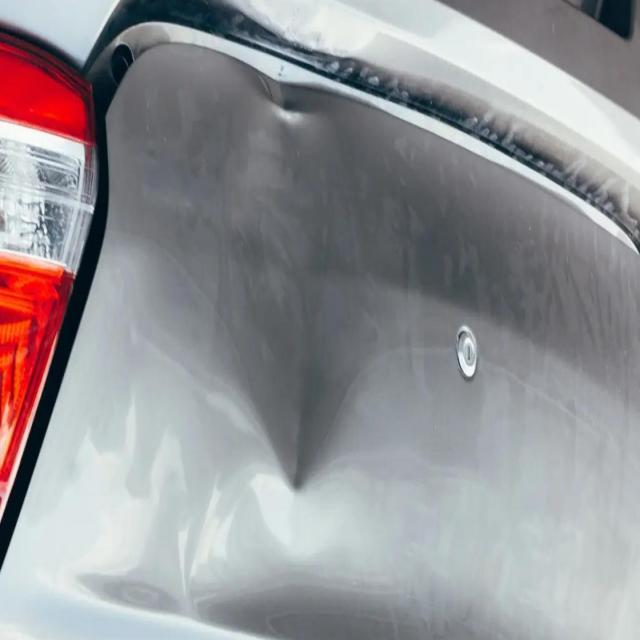dent: (204, 49, 391, 510)
